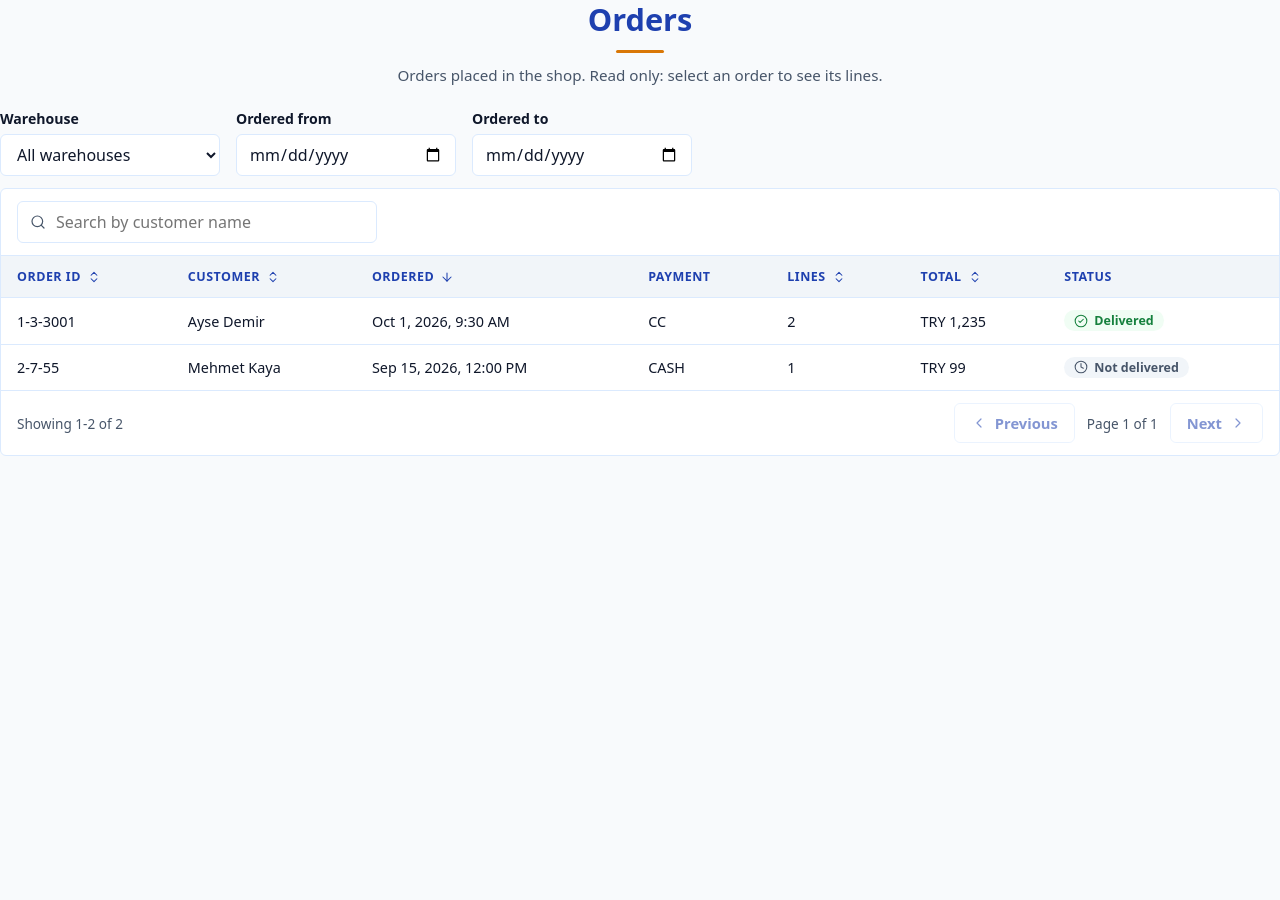
Test: clicking an order opens its header and its lines in order
Click the text "1-3-3001".
click(640, 321)  # box [1,298,1279,344]
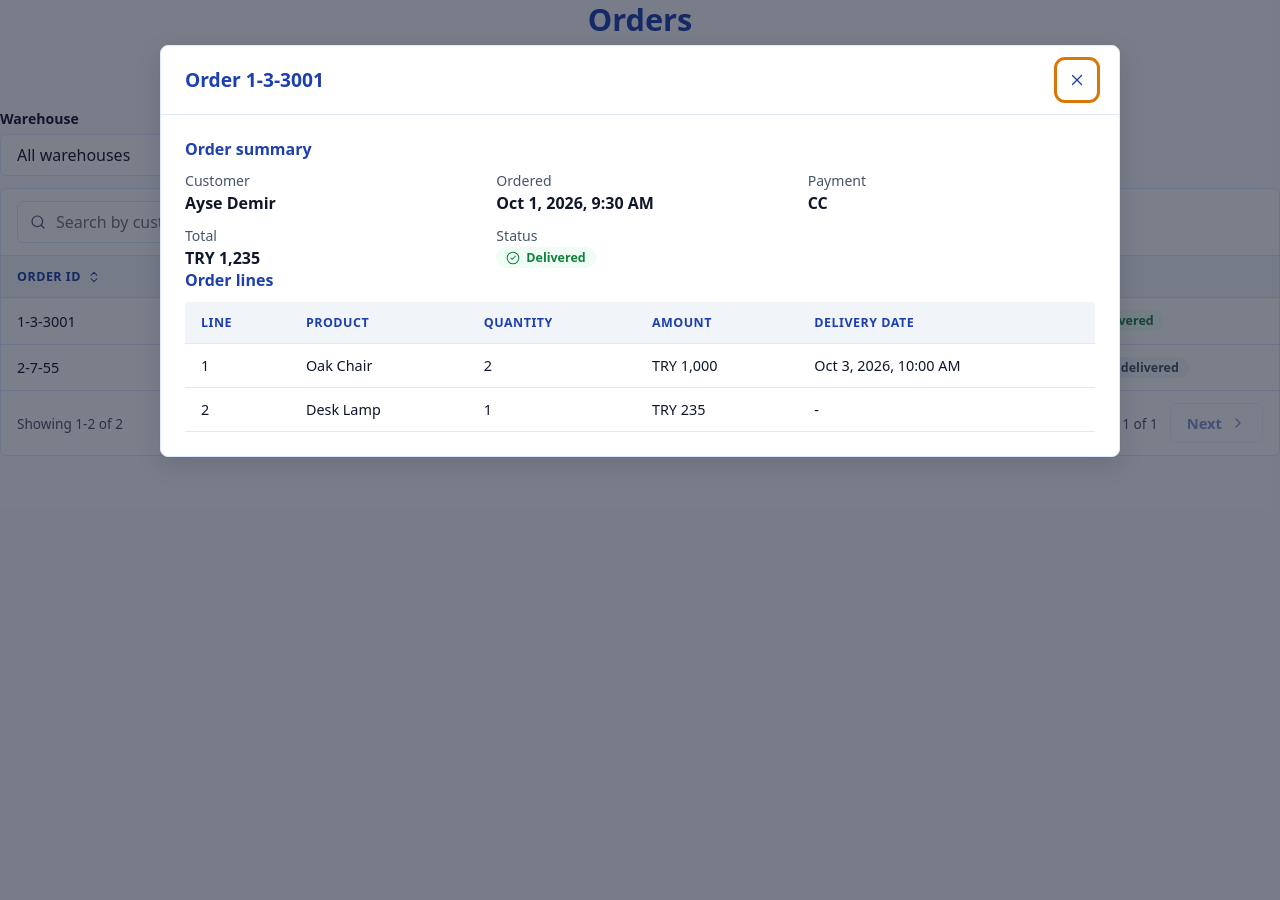
Expected: the text "Oak Chair" is shown, [290,343,468,387]
Expected: the text "Desk Lamp" is shown, [290,387,468,431]
Expected: the text "Delivered" is shown, [526,249,586,266]
